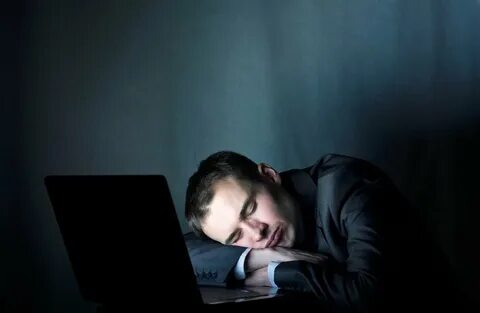sleep: (178, 152, 403, 302)
